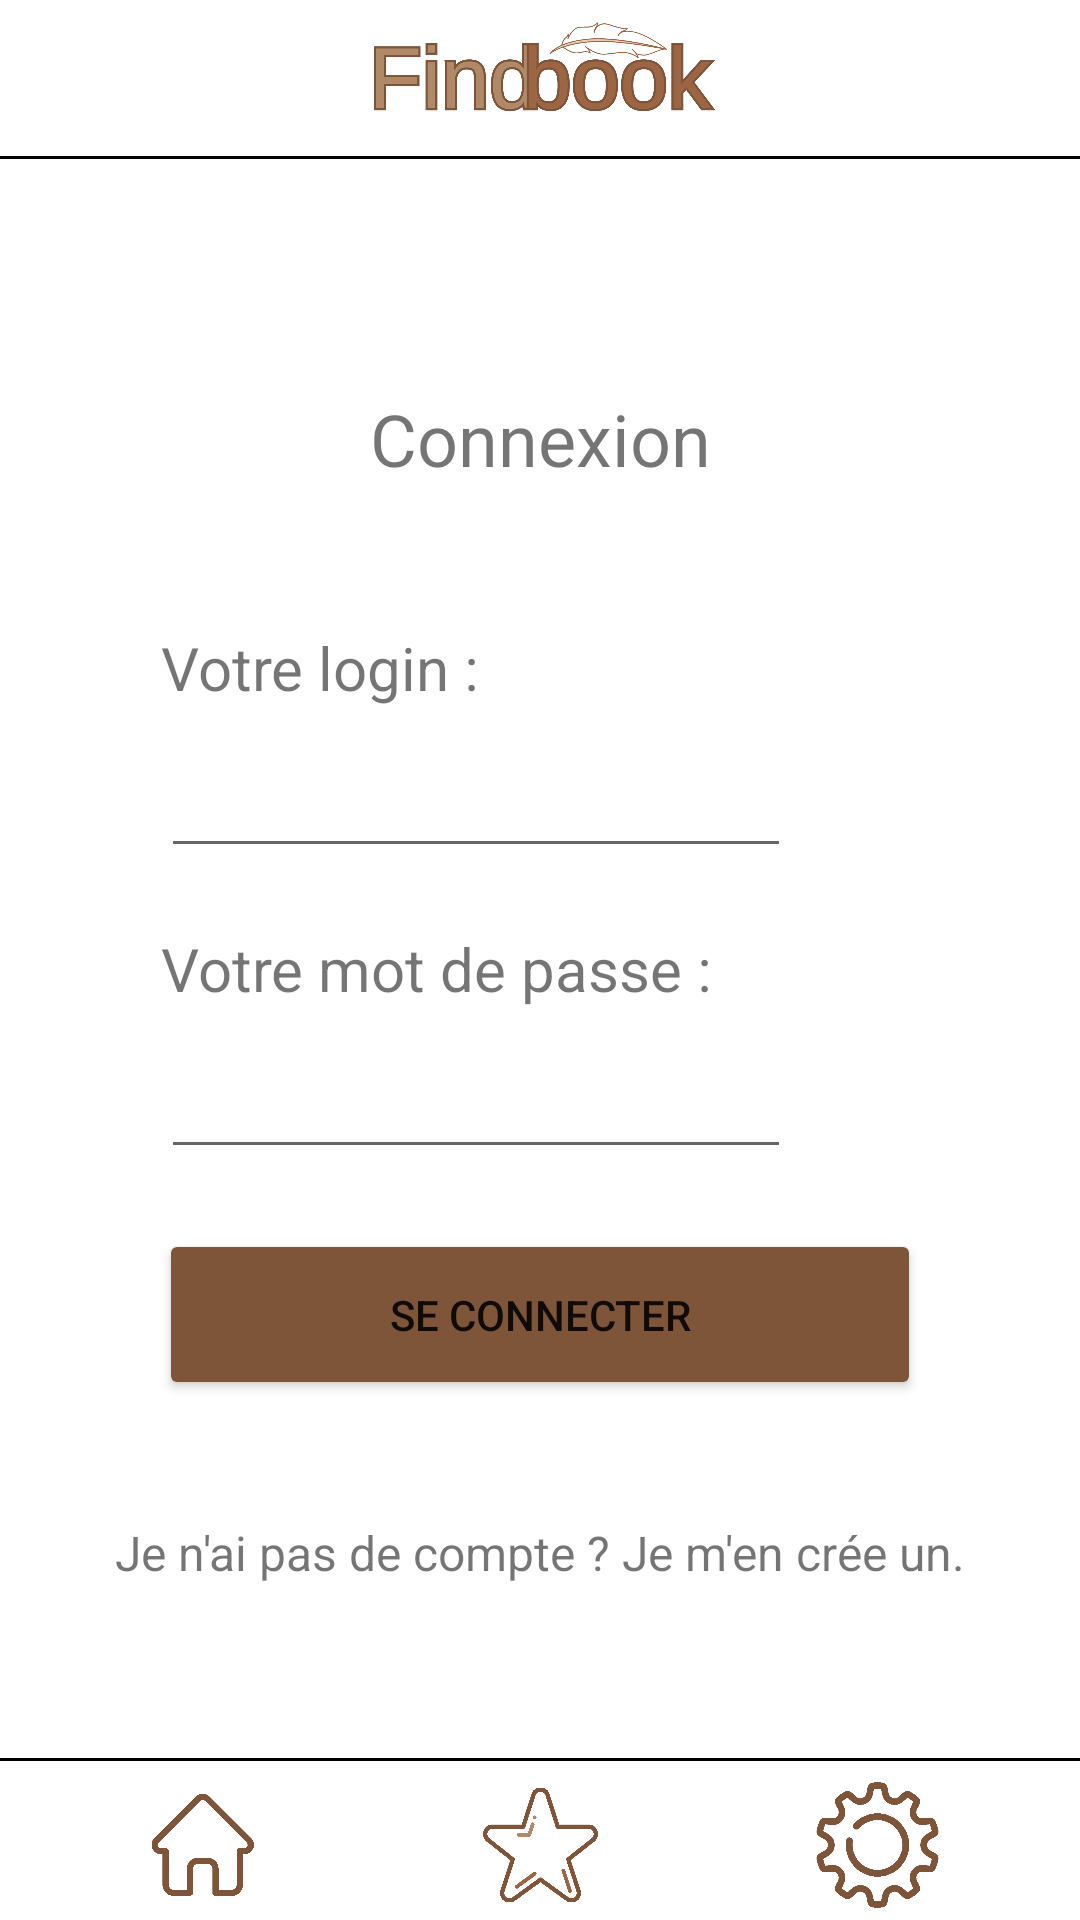

Icons on this 1080px×1920px Android screen, each with the point to tap as [x,y]:
favoris: [540,1845]
home: [203,1845]
parametre: [877,1845]
